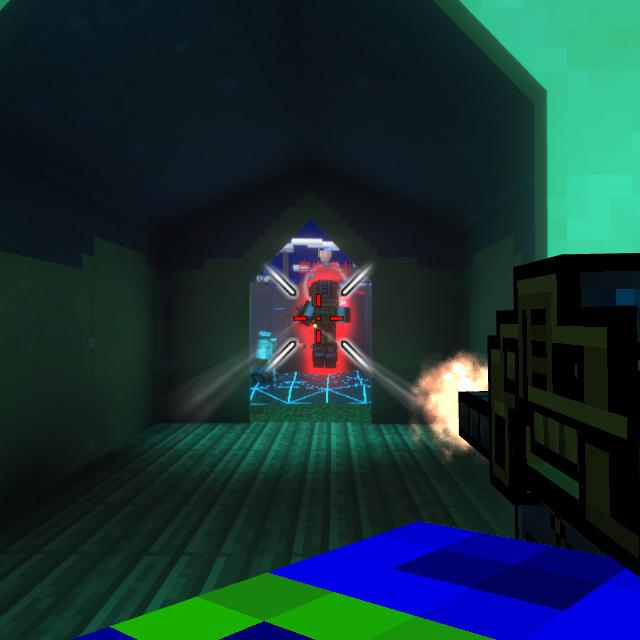Enemy: (298, 281, 353, 370)
